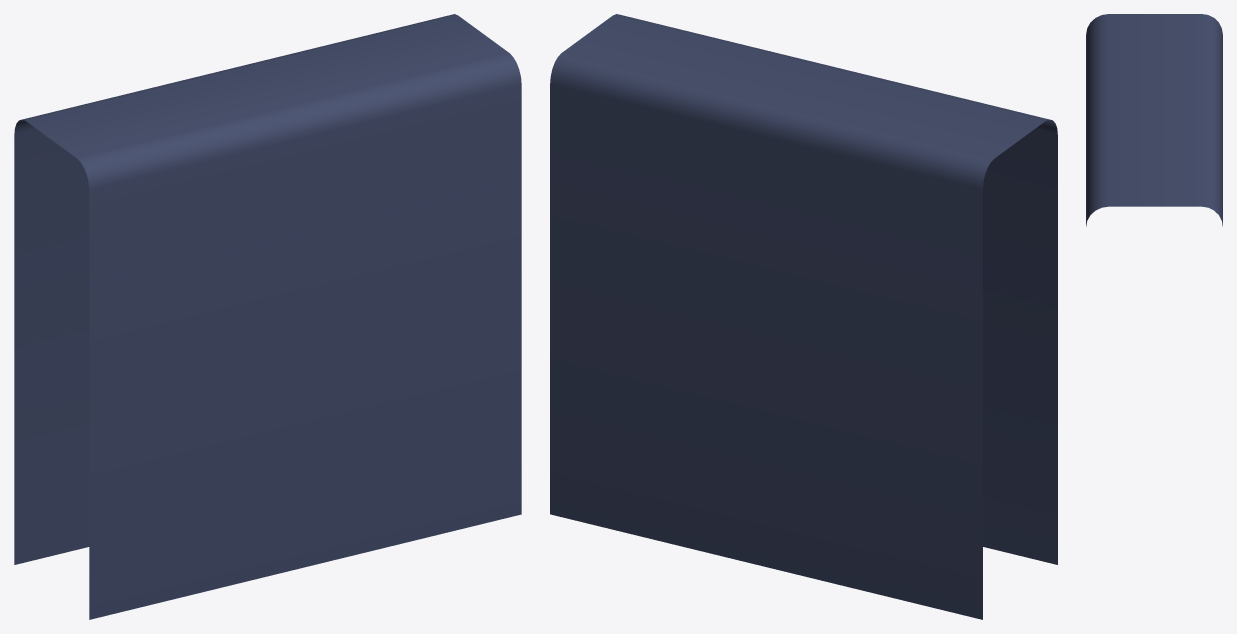
File: SM_Wall_Straight_01.fbx
3 views of the same model, side by side, from view 1: azimuth 30°, elevation 25°; view 2: azimuth 150°, elevation 25°; view 3: azimuth 270°, elevation 25° (orthographic). The views are drawn at different scales.
Visible parts, largest first — view 1: SM_Wall_Straight_01; view 2: SM_Wall_Straight_01; view 3: SM_Wall_Straight_01.
Boxes of the visible parts, x1,y1,x2,y2 form: SM_Wall_Straight_01: (14,14,521,619); SM_Wall_Straight_01: (550,14,1057,619); SM_Wall_Straight_01: (1086,14,1222,226).
Bounding box in the file's own units: 100 × 100 × 30.
